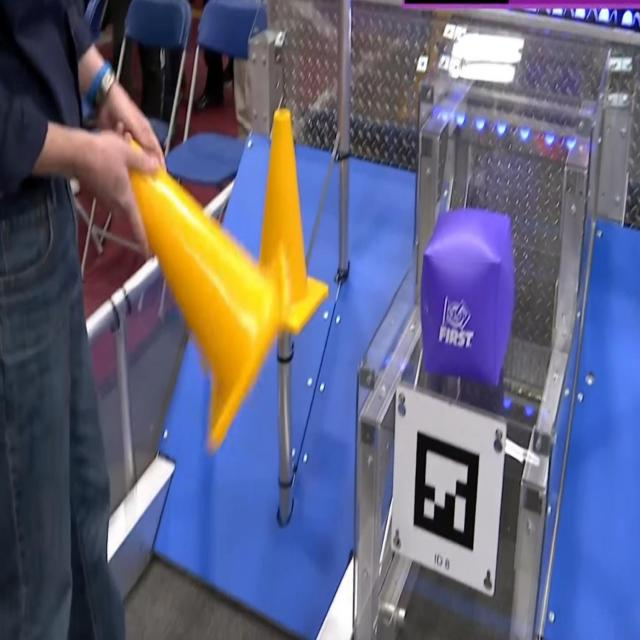frc_cone: (126, 132, 289, 452), (234, 108, 331, 338)
frc_cube: (422, 209, 516, 385)
